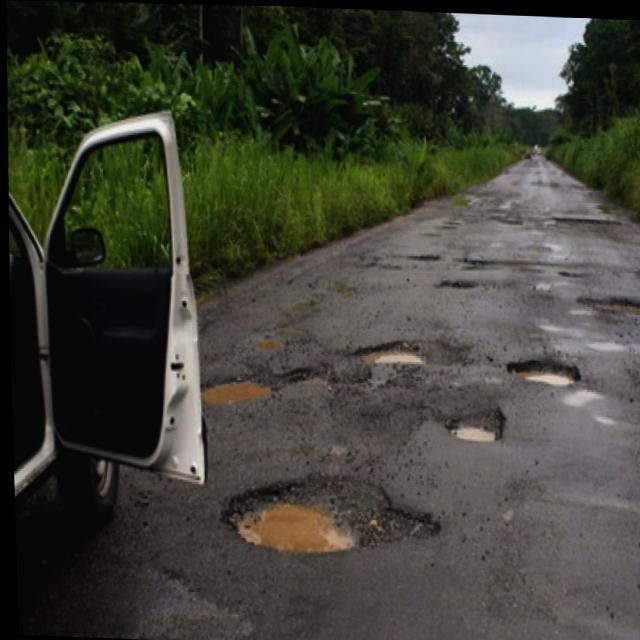Pothole: (222, 474, 426, 553), (195, 371, 274, 406), (440, 403, 501, 439), (498, 356, 576, 383), (356, 343, 432, 370), (584, 293, 640, 312)
